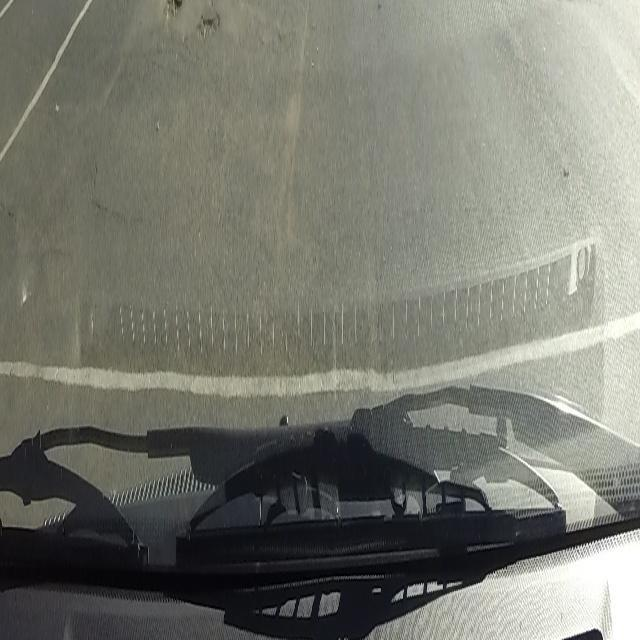pothole: (197, 10, 221, 46), (164, 0, 182, 21)
